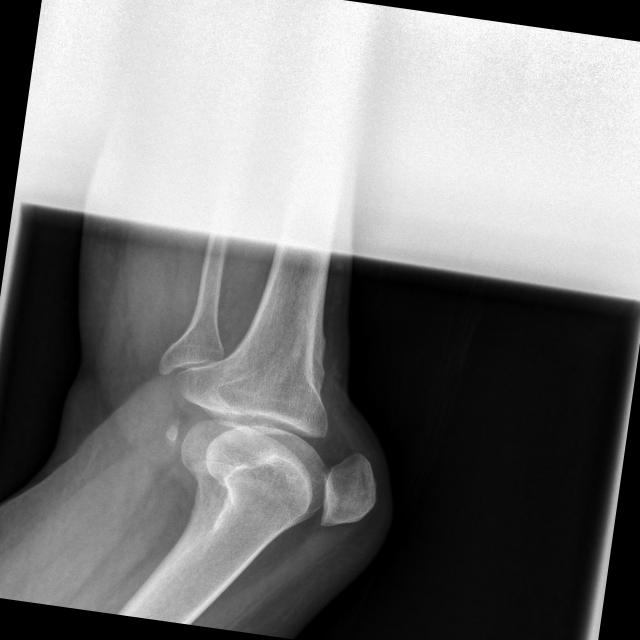Knee: (156, 358, 392, 536)
